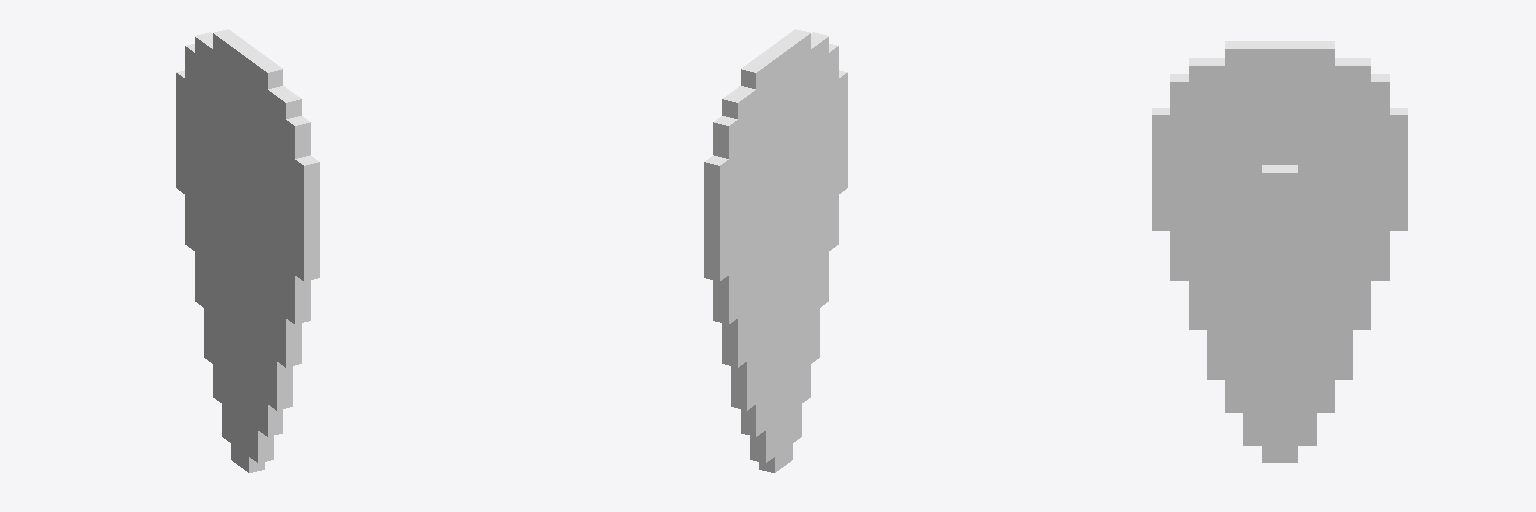
File: char-33-shield_hvy_3_du_color.obj
The picture shows the model from 3 angles: view 1: azimuth 30°, elevation 25°; view 2: azimuth 150°, elevation 25°; view 3: azimuth 270°, elevation 25°; orthographic projection.
Visible parts, largest first — view 1: shield_hvy_3_du_color; view 2: shield_hvy_3_du_color; view 3: shield_hvy_3_du_color.
Part boxes in pixels (bbox=[...]): shield_hvy_3_du_color: bbox=[176, 29, 319, 472]; shield_hvy_3_du_color: bbox=[704, 29, 847, 472]; shield_hvy_3_du_color: bbox=[1152, 41, 1407, 462].
Size of the model in its own units: 0.2 by 2.5 by 1.4.